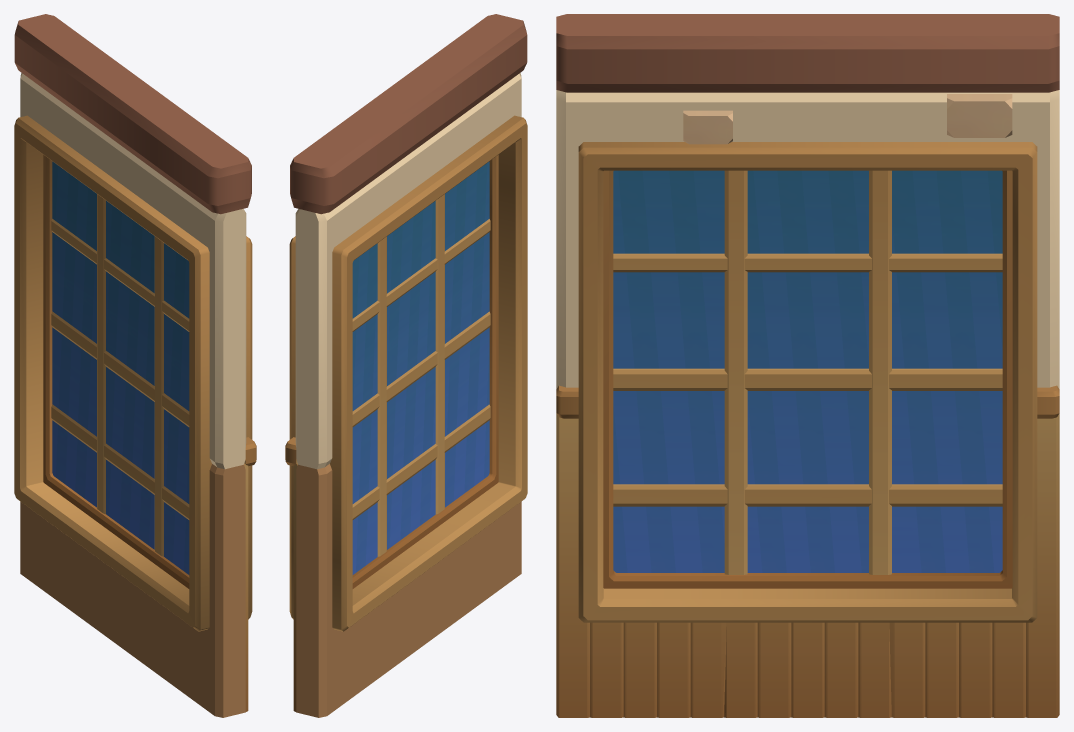
The model's file is Wall_B_21.glb.
3 renders of one model, left to right at view 1: azimuth 30°, elevation 25°; view 2: azimuth 150°, elevation 25°; view 3: azimuth 270°, elevation 25°, orthographic. The views are drawn at different scales.
Parts seen in each view (by area): view 1: Wall_B_21; view 2: Wall_B_21; view 3: Wall_B_21.
Boxes of the visible parts, x1,y1,x2,y2 form: Wall_B_21: (14, 14, 256, 717); Wall_B_21: (285, 14, 527, 717); Wall_B_21: (556, 14, 1059, 717).
Size of the model in its own units: 0.3277 by 3 by 2.
2 materials, 2 textured.
